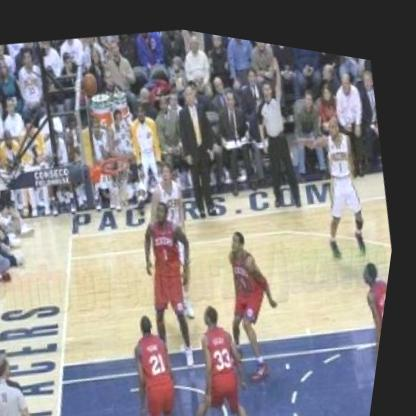basketball: (81, 65, 104, 93)
